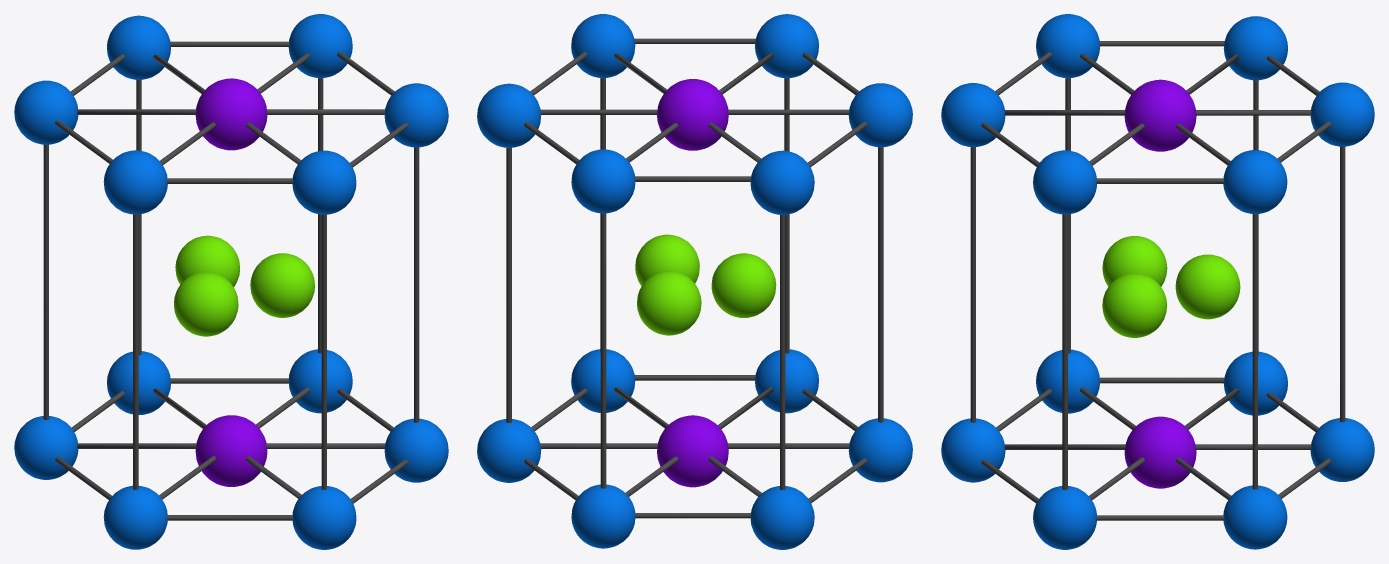
Rendered from Hex.glb.
The picture shows the model from 3 angles, left to right: view 1: azimuth 30°, elevation 25°; view 2: azimuth 150°, elevation 25°; view 3: azimuth 270°, elevation 25°; orthographic projection.
Visible parts, largest first — view 1: Sphere.013, Sphere.014, Sphere, Sphere.017, Sphere.007, Sphere.012, Sphere.004, Sphere.011, Sphere.001, Sphere.002, Sphere.008, Sphere.003 (+17 smaller); view 2: Sphere.013, Sphere.014, Sphere.016, Sphere.017, Sphere.005, Sphere.002, Sphere.006, Sphere.003, Sphere.009, Sphere.007, Sphere.010, Sphere.004 (+17 smaller); view 3: Sphere.013, Sphere.014, Sphere.016, Sphere, Sphere.001, Sphere.009, Sphere.010, Sphere.008, Sphere.005, Sphere.012, Sphere.006, Sphere.011 (+17 smaller).
Boxes of the visible parts, x1,y1,x2,y2 form: Sphere.013: (195,78,267,150); Sphere.014: (195,415,267,486); Sphere: (250,253,314,317); Sphere.017: (174,271,238,336); Sphere.007: (103,150,167,214); Sphere.012: (292,150,356,214); Sphere.004: (103,485,167,549); Sphere.011: (292,486,356,549); Sphere.001: (384,83,448,147); Sphere.002: (14,80,78,144); Sphere.008: (384,418,448,482); Sphere.003: (14,416,78,479); Sphere.013: (657,79,728,150); Sphere.014: (657,415,728,487); Sphere.016: (637,270,701,335); Sphere.017: (711,253,776,317); Sphere.005: (571,149,635,213); Sphere.002: (750,150,814,214); Sphere.006: (571,484,635,548); Sphere.003: (750,486,814,549); Sphere.009: (477,83,541,147); Sphere.007: (848,83,912,147); Sphere.010: (477,419,541,482); Sphere.004: (848,418,912,482); Sphere.013: (1124,79,1196,151); Sphere.014: (1124,416,1196,488); Sphere.016: (1175,254,1240,319); Sphere: (1102,273,1167,337); Sphere.001: (1033,150,1096,214); Sphere.009: (1223,150,1287,214); Sphere.010: (1223,485,1287,549); Sphere.008: (1033,486,1096,549); Sphere.005: (1310,82,1374,146); Sphere.012: (941,83,1005,147); Sphere.006: (1310,418,1374,481); Sphere.011: (941,418,1005,482).
Size of the model in its own units: 4.18 by 4.8 by 4.69.
